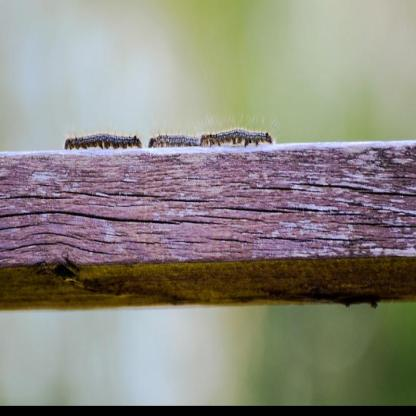armyworm: (199, 124, 281, 158), (61, 124, 148, 155), (146, 128, 206, 157)
